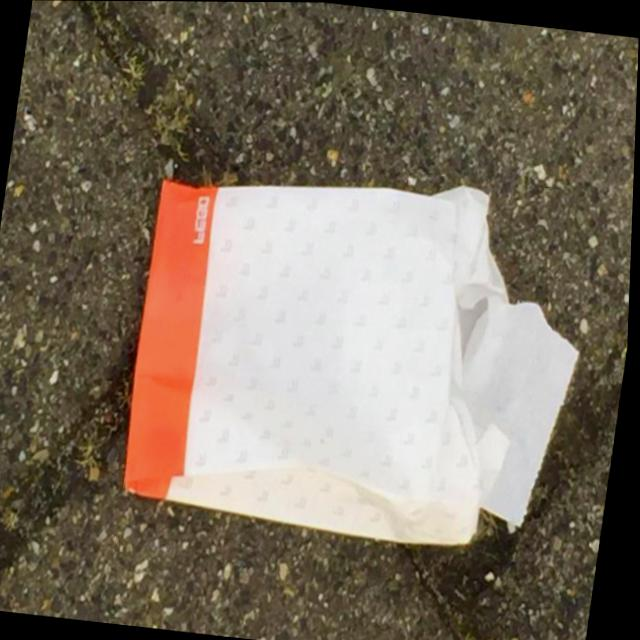Paper: (112, 149, 606, 563)
